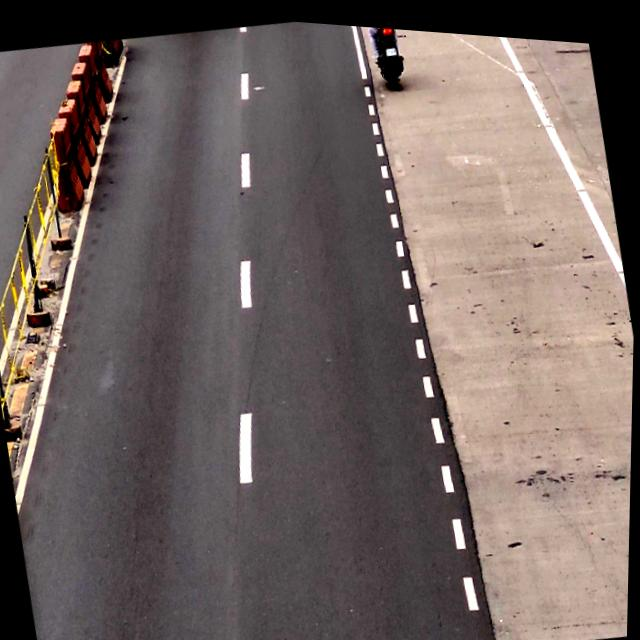Motorcycle: (366, 21, 410, 89)
